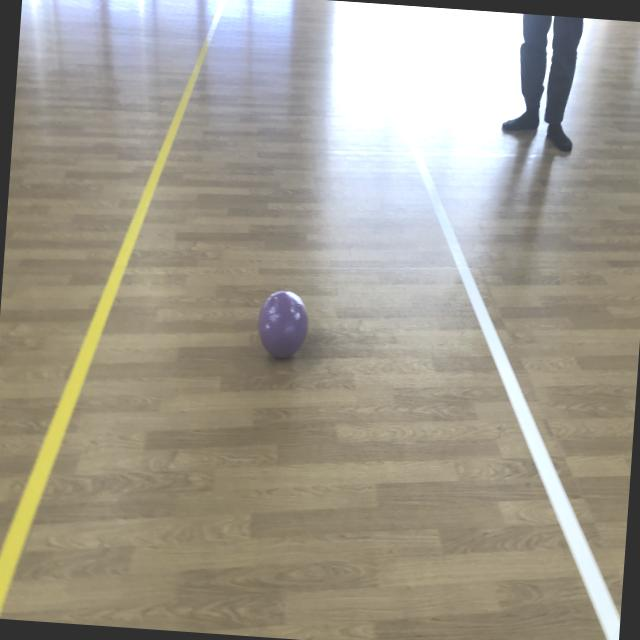purple_ball: (256, 290, 311, 362)
